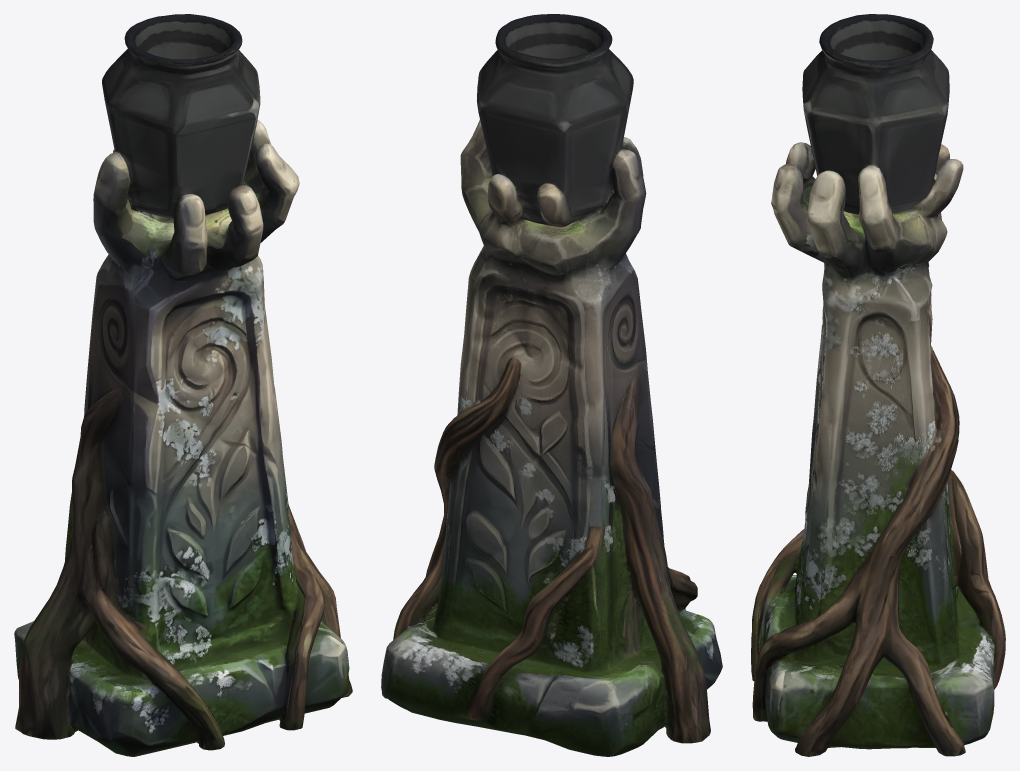
Rendered from mesh_memory_reliquary_a.glb.
The picture shows the model from 3 angles, left to right: view 1: azimuth 30°, elevation 25°; view 2: azimuth 150°, elevation 25°; view 3: azimuth 270°, elevation 25°; orthographic projection.
Visible parts, largest first — view 1: Mesh_0; view 2: Mesh_0; view 3: Mesh_0.
Part boxes in pixels (x1,y1,x2,y2): Mesh_0: [14, 14, 352, 756]; Mesh_0: [381, 14, 722, 756]; Mesh_0: [751, 14, 1005, 756].
Size of the model in its own units: 0.8935 by 1.9 by 0.6687.
1 material, 1 textured.
